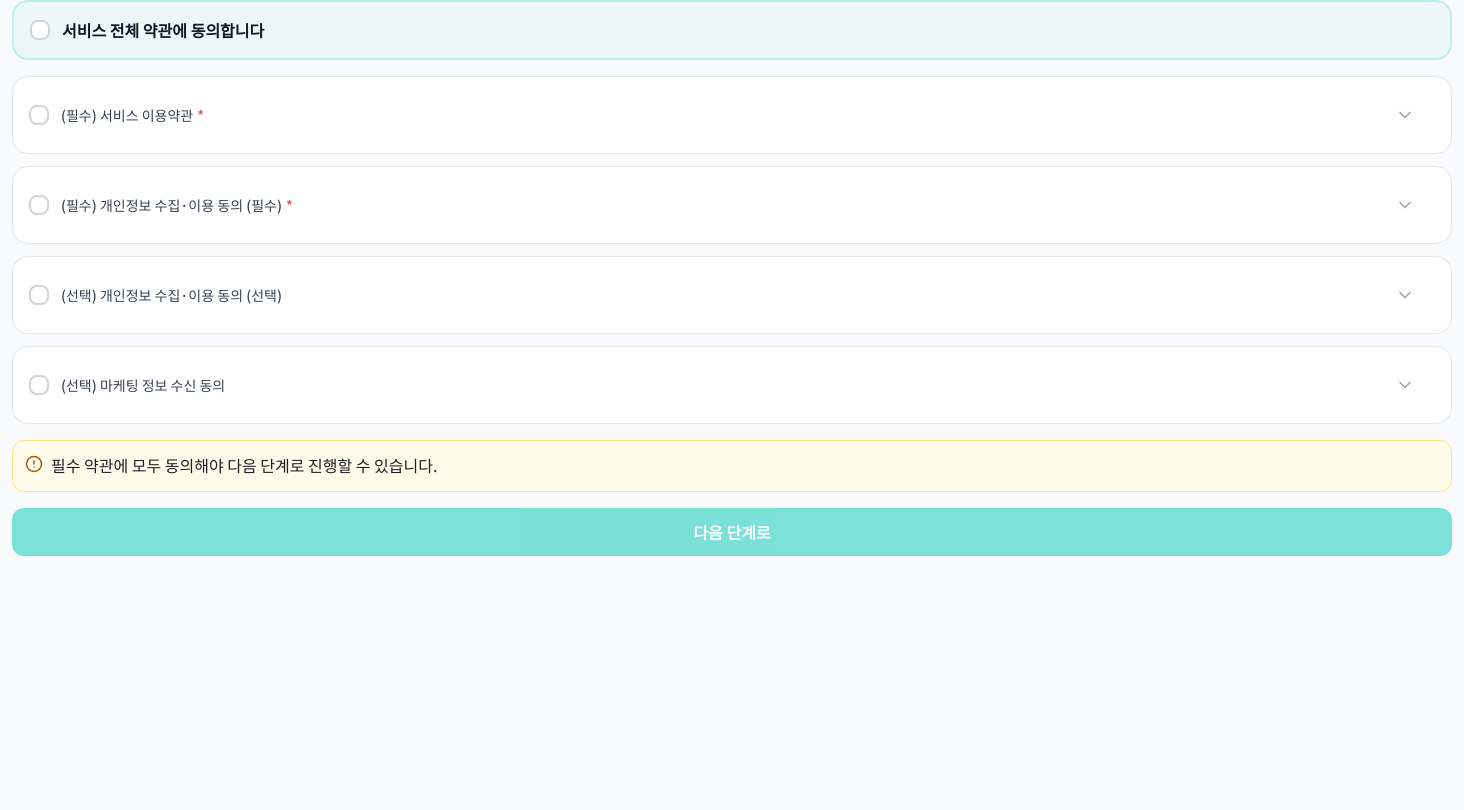
it: TermsAgreement Component › expands and collapses term content when toggle button is clicked
Expected: the text "서비스 이용약관 내용입니다." is not shown
# Click to expand
Click the button named "내용 보기" in the row of "(필수) 서비스 이용약관": point(1413, 115) [1391,93,1435,137]
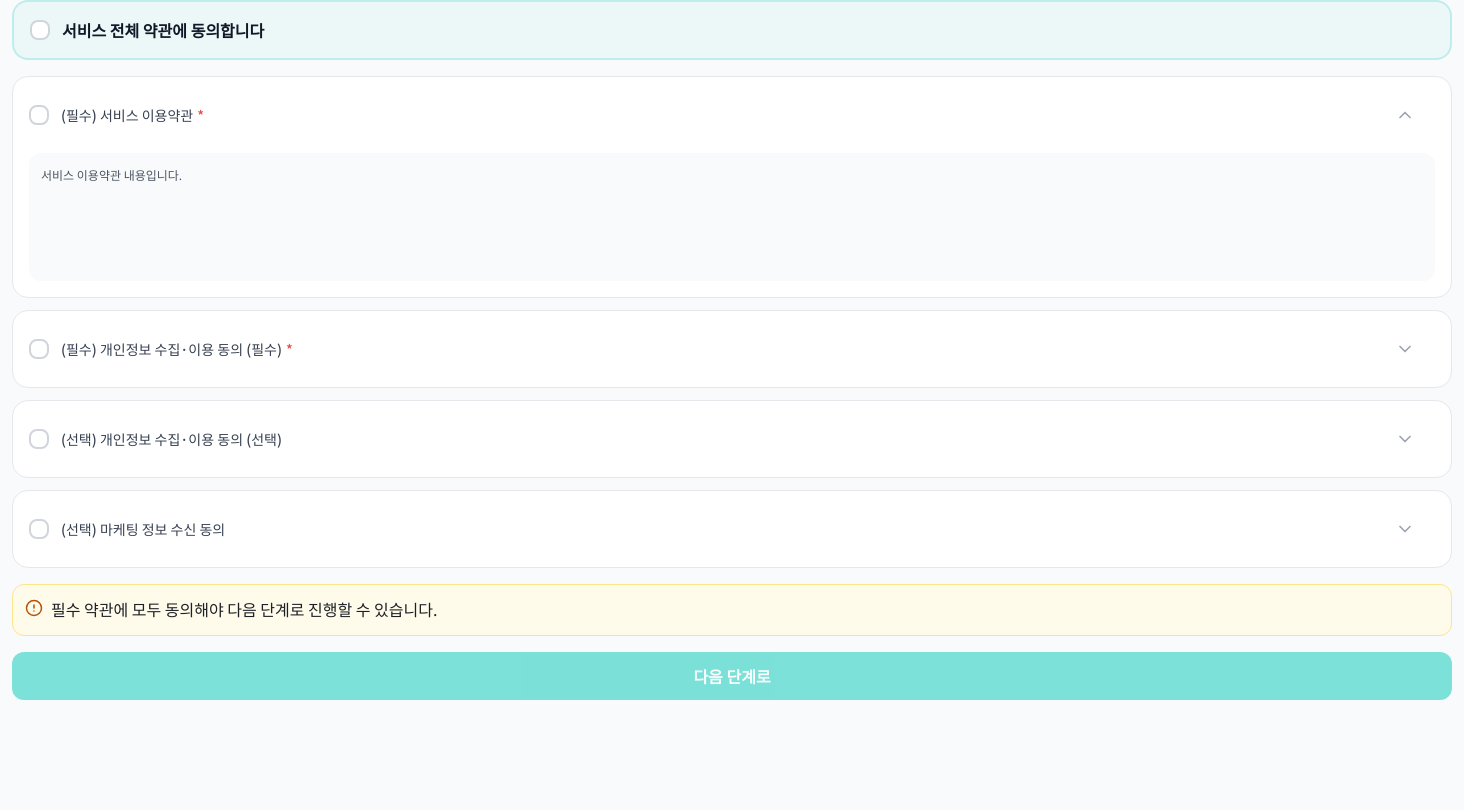
Now the text "서비스 이용약관 내용입니다." is shown, box [29,153,1435,281]
# Click to collapse
Click the button named "내용 보기": point(1413, 115) [1391,93,1435,137]
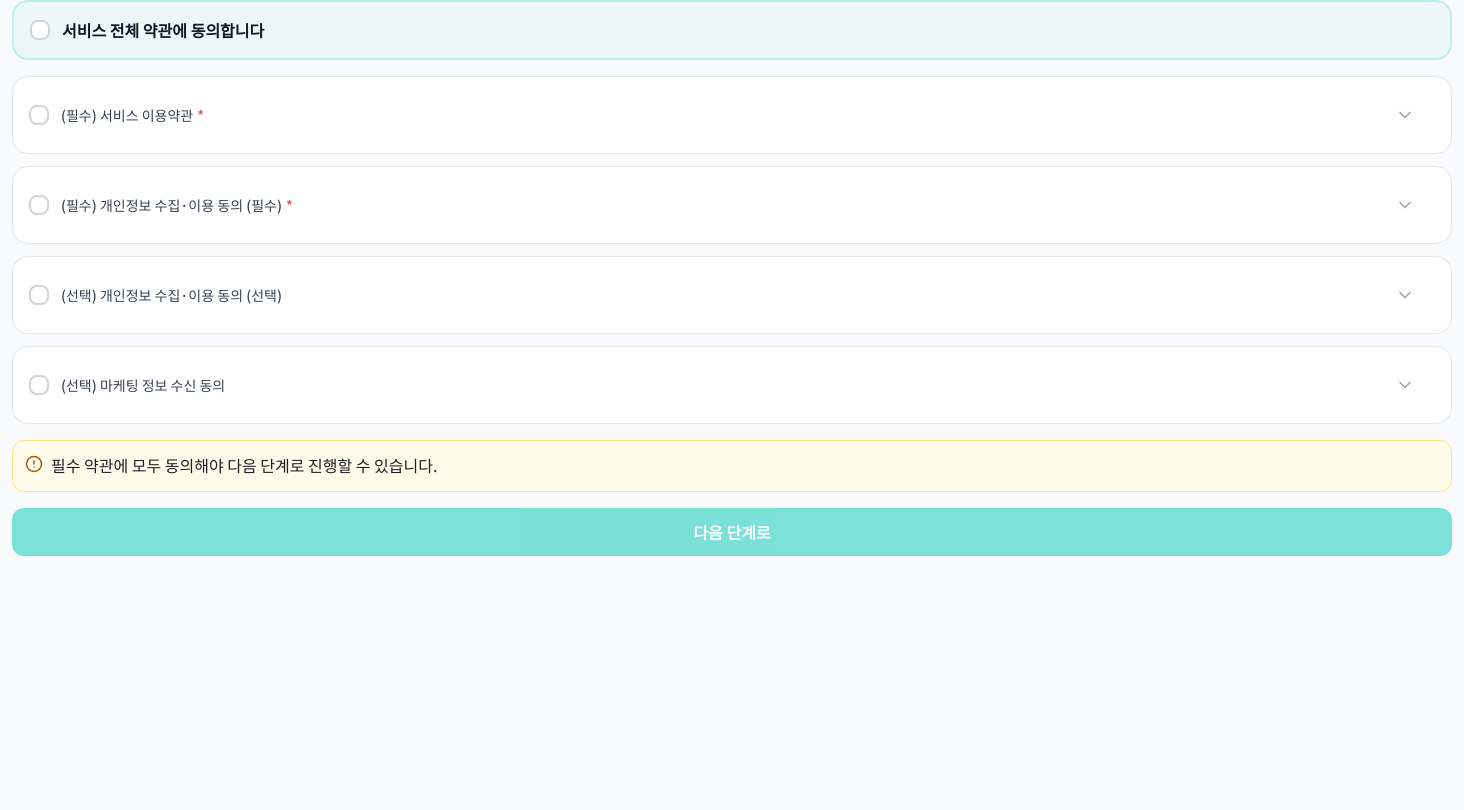
Now the text "서비스 이용약관 내용입니다." is gone
